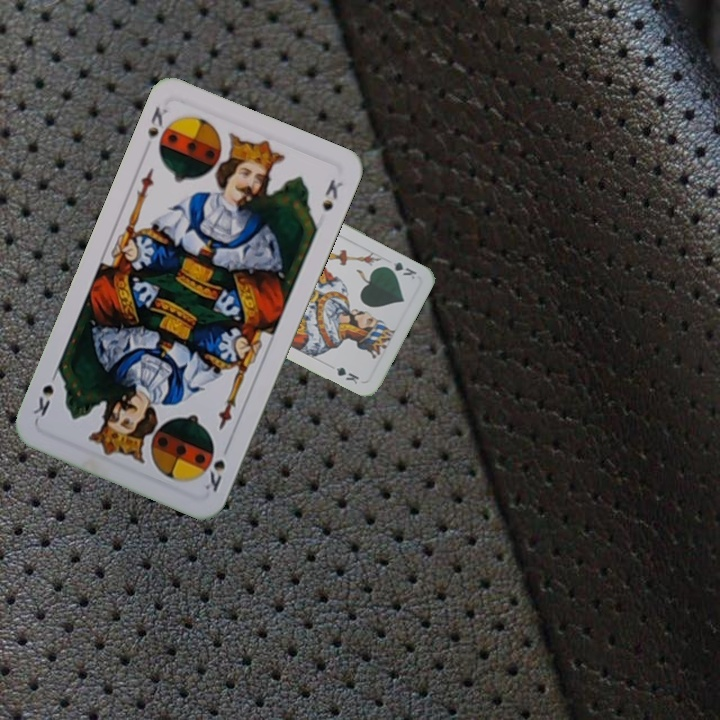GK: (380, 258, 419, 282)
SK: (200, 444, 228, 495), (143, 102, 171, 141)
